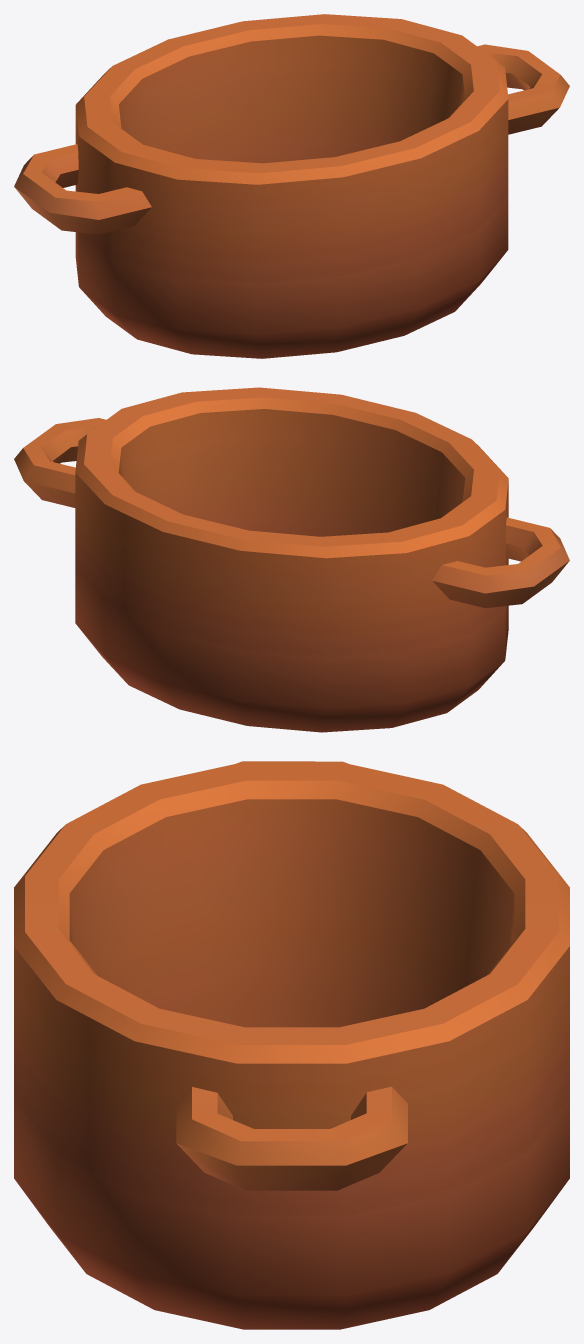
File: kkr.pot_large.glb
3 views of the same model, one above another, from view 1: azimuth 30°, elevation 25°; view 2: azimuth 150°, elevation 25°; view 3: azimuth 270°, elevation 25° (orthographic). The views are drawn at different scales.
Visible parts, largest first — view 1: pot_large; view 2: pot_large; view 3: pot_large.
Part boxes in pixels (x1,y1,x2,y2): pot_large: [14, 14, 569, 358]; pot_large: [14, 387, 569, 732]; pot_large: [14, 761, 569, 1329].
Bounding box in the file's own units: 0.5513 × 0.2068 × 0.3308.
1 material, 1 textured.
